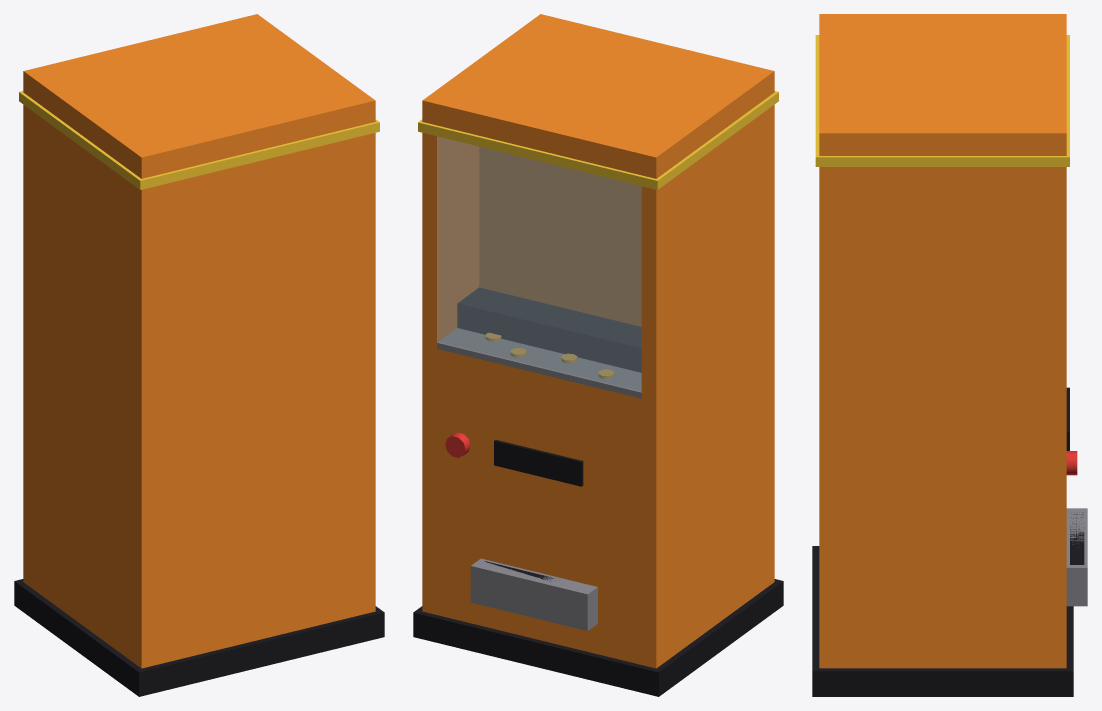
File: Medal_Machine.obj
The picture shows the model from 3 angles, left to right: view 1: azimuth 30°, elevation 25°; view 2: azimuth 150°, elevation 25°; view 3: azimuth 270°, elevation 25°; orthographic projection. The views are drawn at different scales.
Parts seen in each view (by area): view 1: Medal_Machine; view 2: Medal_Machine; view 3: Medal_Machine.
Part boxes in pixels (bbox=[...]): Medal_Machine: bbox=[14, 14, 384, 696]; Medal_Machine: bbox=[413, 14, 783, 696]; Medal_Machine: bbox=[812, 14, 1087, 696].
Bounding box in the file's own units: 0.84 × 1.75 × 0.78.
